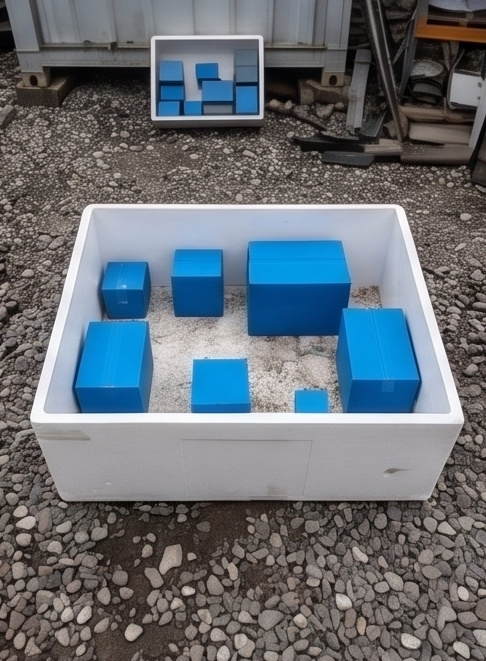blue_box: (248, 240, 351, 338), (335, 308, 422, 415), (74, 320, 154, 418), (191, 354, 252, 417), (173, 249, 226, 316), (101, 260, 152, 320), (293, 388, 329, 415), (202, 80, 236, 105), (160, 59, 185, 86), (236, 85, 259, 114), (196, 62, 221, 88), (235, 66, 259, 86), (160, 85, 185, 102), (236, 49, 259, 66), (157, 102, 181, 117), (184, 101, 203, 117)
container_box: (31, 203, 463, 506), (152, 34, 265, 129)
